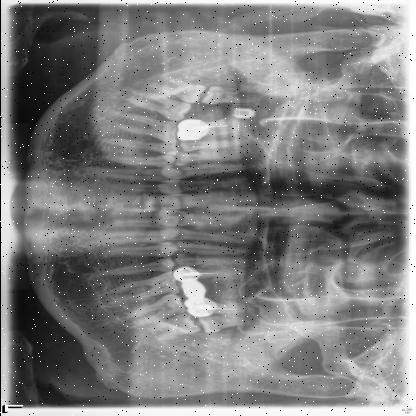Bicon: (230, 107, 260, 119)
